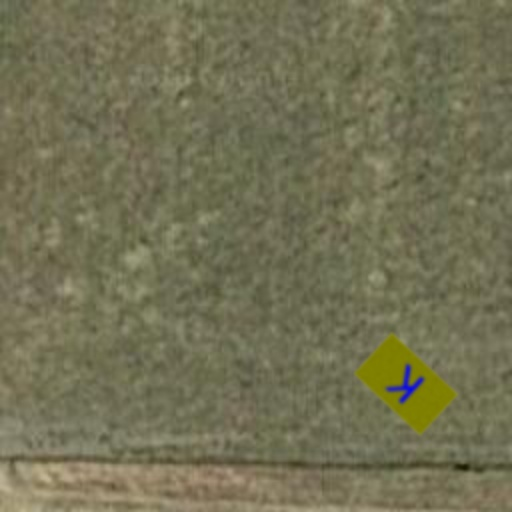rectangle: (340, 318, 472, 450)
